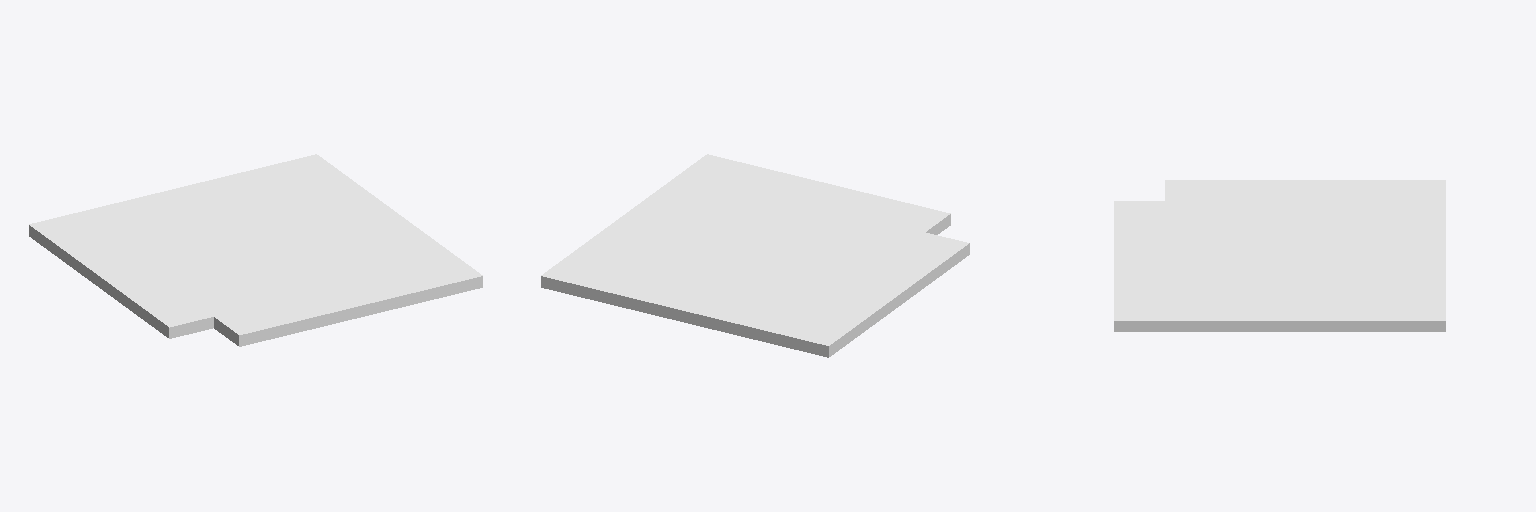
Rendered from RaodP2.obj.
The picture shows the model from 3 angles: view 1: azimuth 30°, elevation 25°; view 2: azimuth 150°, elevation 25°; view 3: azimuth 270°, elevation 25°; orthographic projection.
Parts seen in each view (by area): view 1: object 1; view 2: object 1; view 3: object 1.
Part boxes in pixels (left/top/right/bottom): object 1: left=29, top=154, right=482, bottom=346; object 1: left=541, top=154, right=969, bottom=357; object 1: left=1114, top=180, right=1445, bottom=331.
Size of the model in its own units: 2.6 by 0.1 by 2.6.